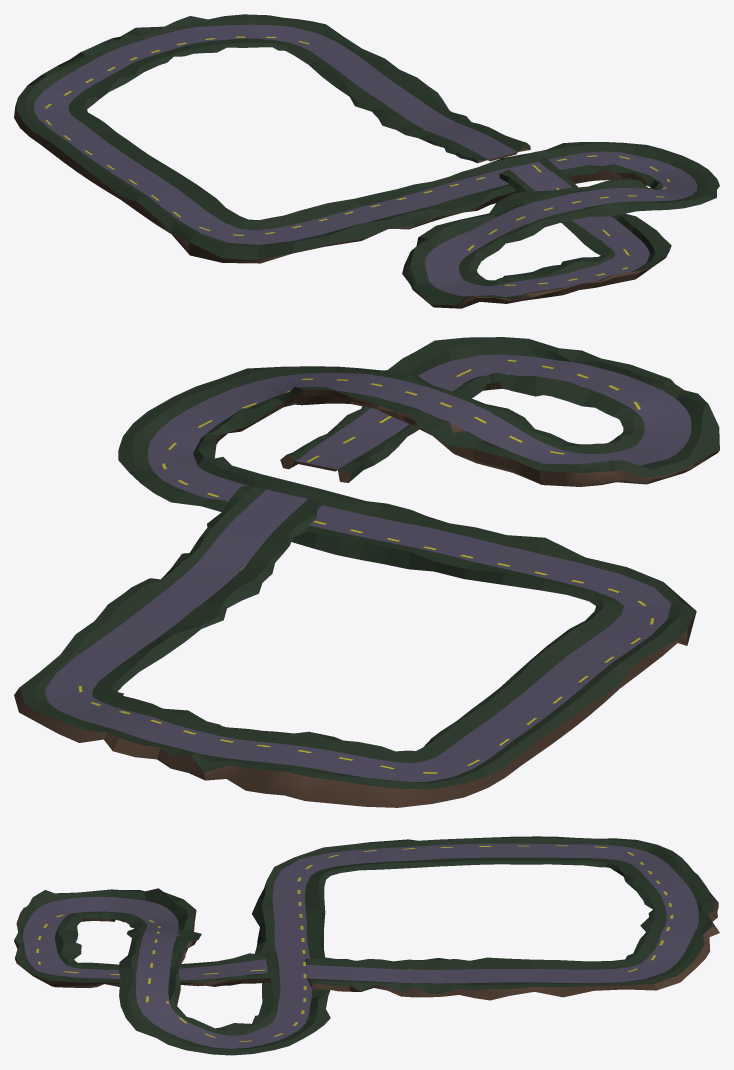
The model's file is Track_003_Combined_001_withsides_010.fbx.
The picture shows the model from 3 angles, top to bottom: view 1: azimuth 30°, elevation 25°; view 2: azimuth 150°, elevation 25°; view 3: azimuth 270°, elevation 25°; orthographic projection. The views are drawn at different scales.
Parts seen in each view (by area): view 1: Track_003_Combined_001_withsides_010; view 2: Track_003_Combined_001_withsides_010; view 3: Track_003_Combined_001_withsides_010.
Part boxes in pixels (x1,y1,x2,y2): Track_003_Combined_001_withsides_010: (14,14,719,308); Track_003_Combined_001_withsides_010: (14,337,719,807); Track_003_Combined_001_withsides_010: (14,836,719,1055).
Size of the model in its own units: 40606 by 4122 by 56649.
